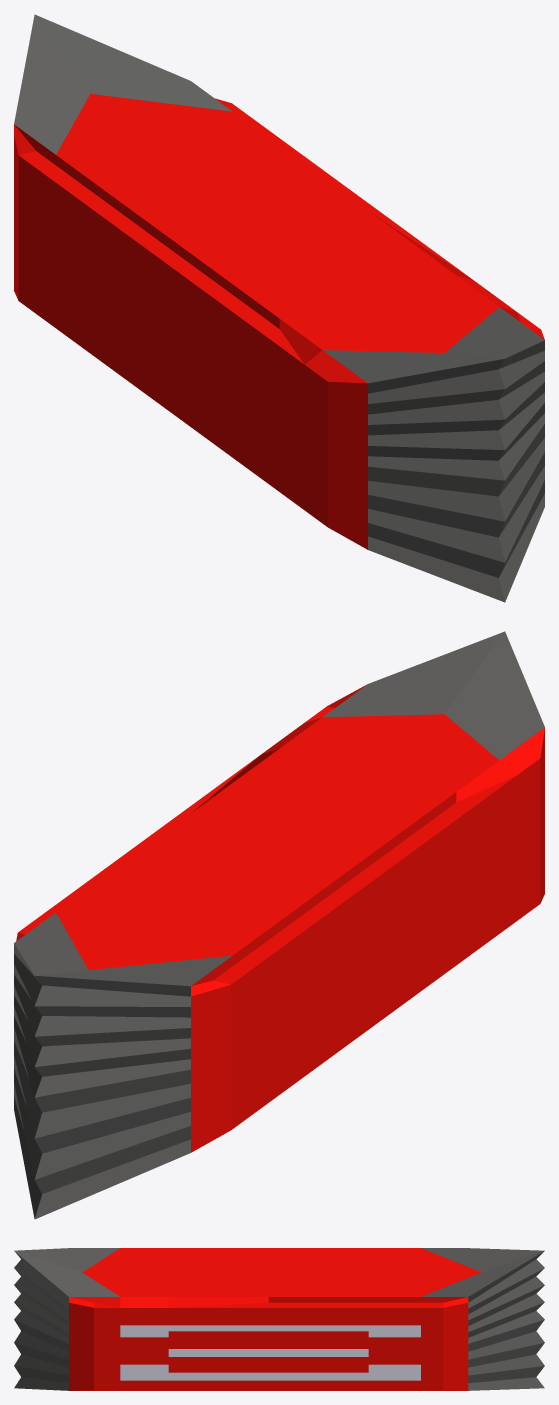
File: food 2.fbx
The picture shows the model from 3 angles, top to bottom: view 1: azimuth 30°, elevation 25°; view 2: azimuth 150°, elevation 25°; view 3: azimuth 270°, elevation 25°; orthographic projection. The views are drawn at different scales.
Visible parts, largest first — view 1: Cube; view 2: Cube; view 3: Cube.
Part boxes in pixels (x1,y1,x2,y2): Cube: (14, 14, 544, 602); Cube: (14, 631, 544, 1219); Cube: (14, 1248, 544, 1390).
Size of the model in its own units: 69.58 by 76.01 by 266.
